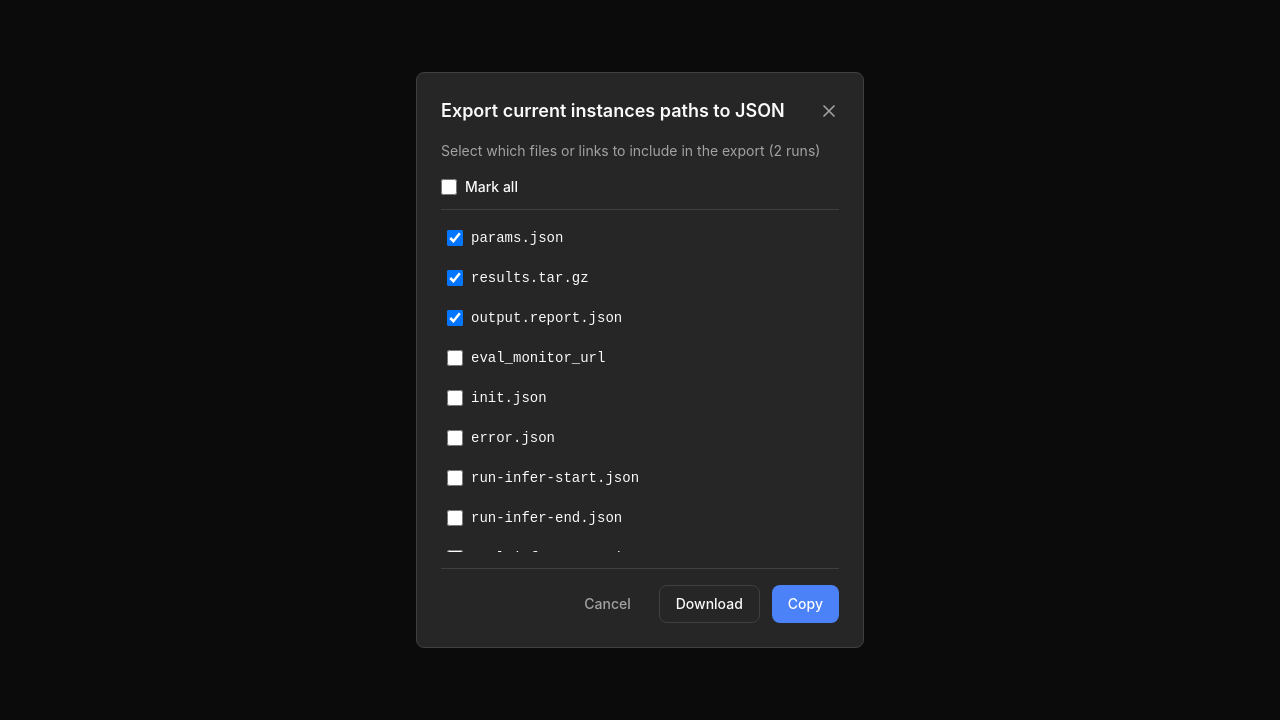
Test: ExportPathsModal › shows Copied! text after clicking copy button
Step 1. Click the button with test id "copy-button" → (805, 604), box [772, 585, 839, 623]
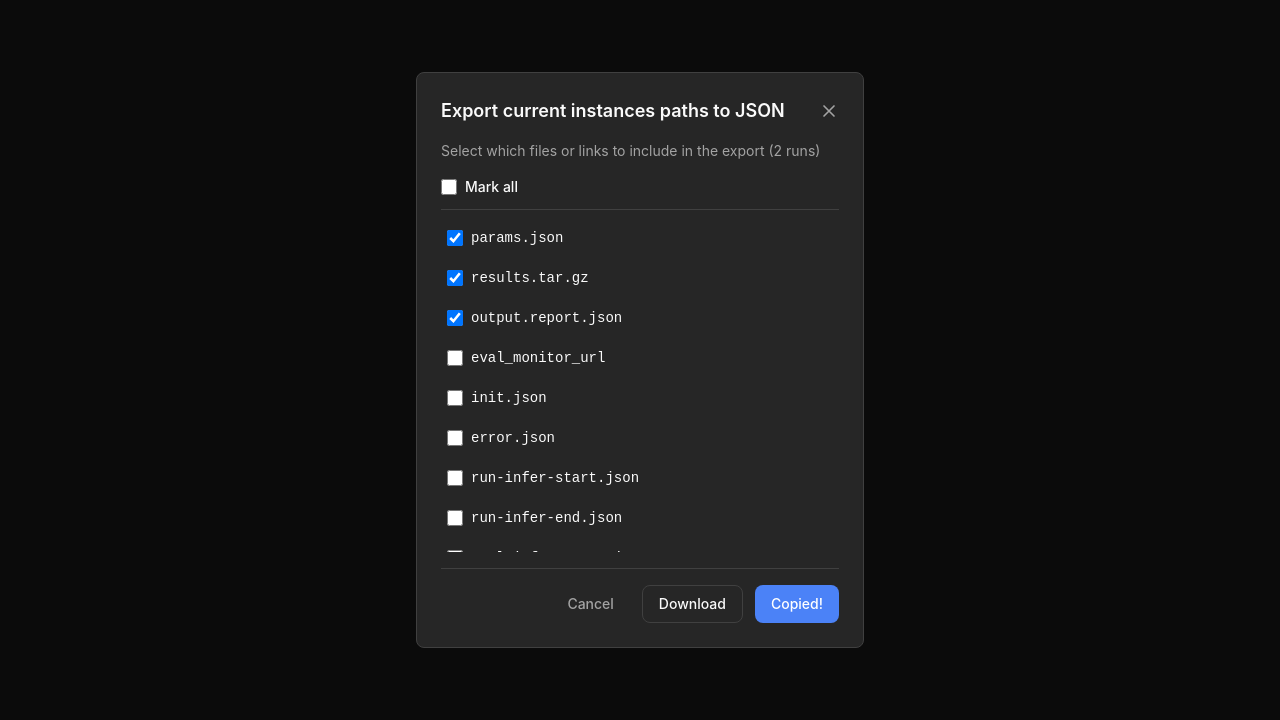
Expected: the button with test id "copy-button" reads "Copied!", [755, 585, 839, 623]
